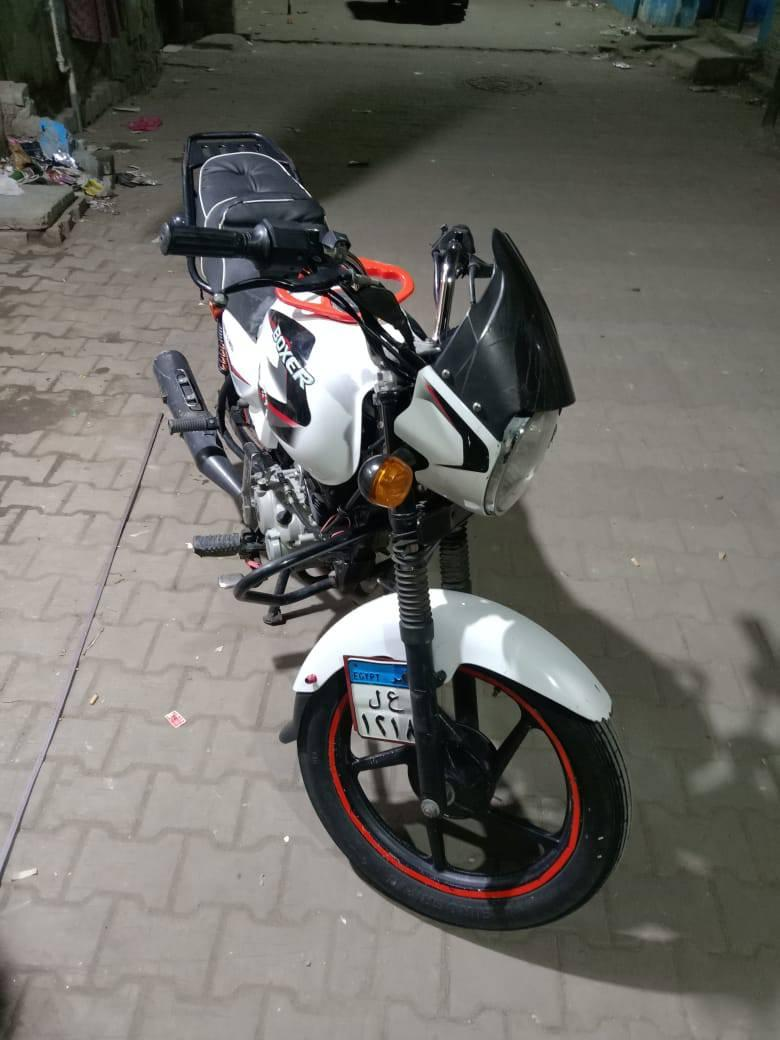License Plate: (344, 656, 420, 748)
